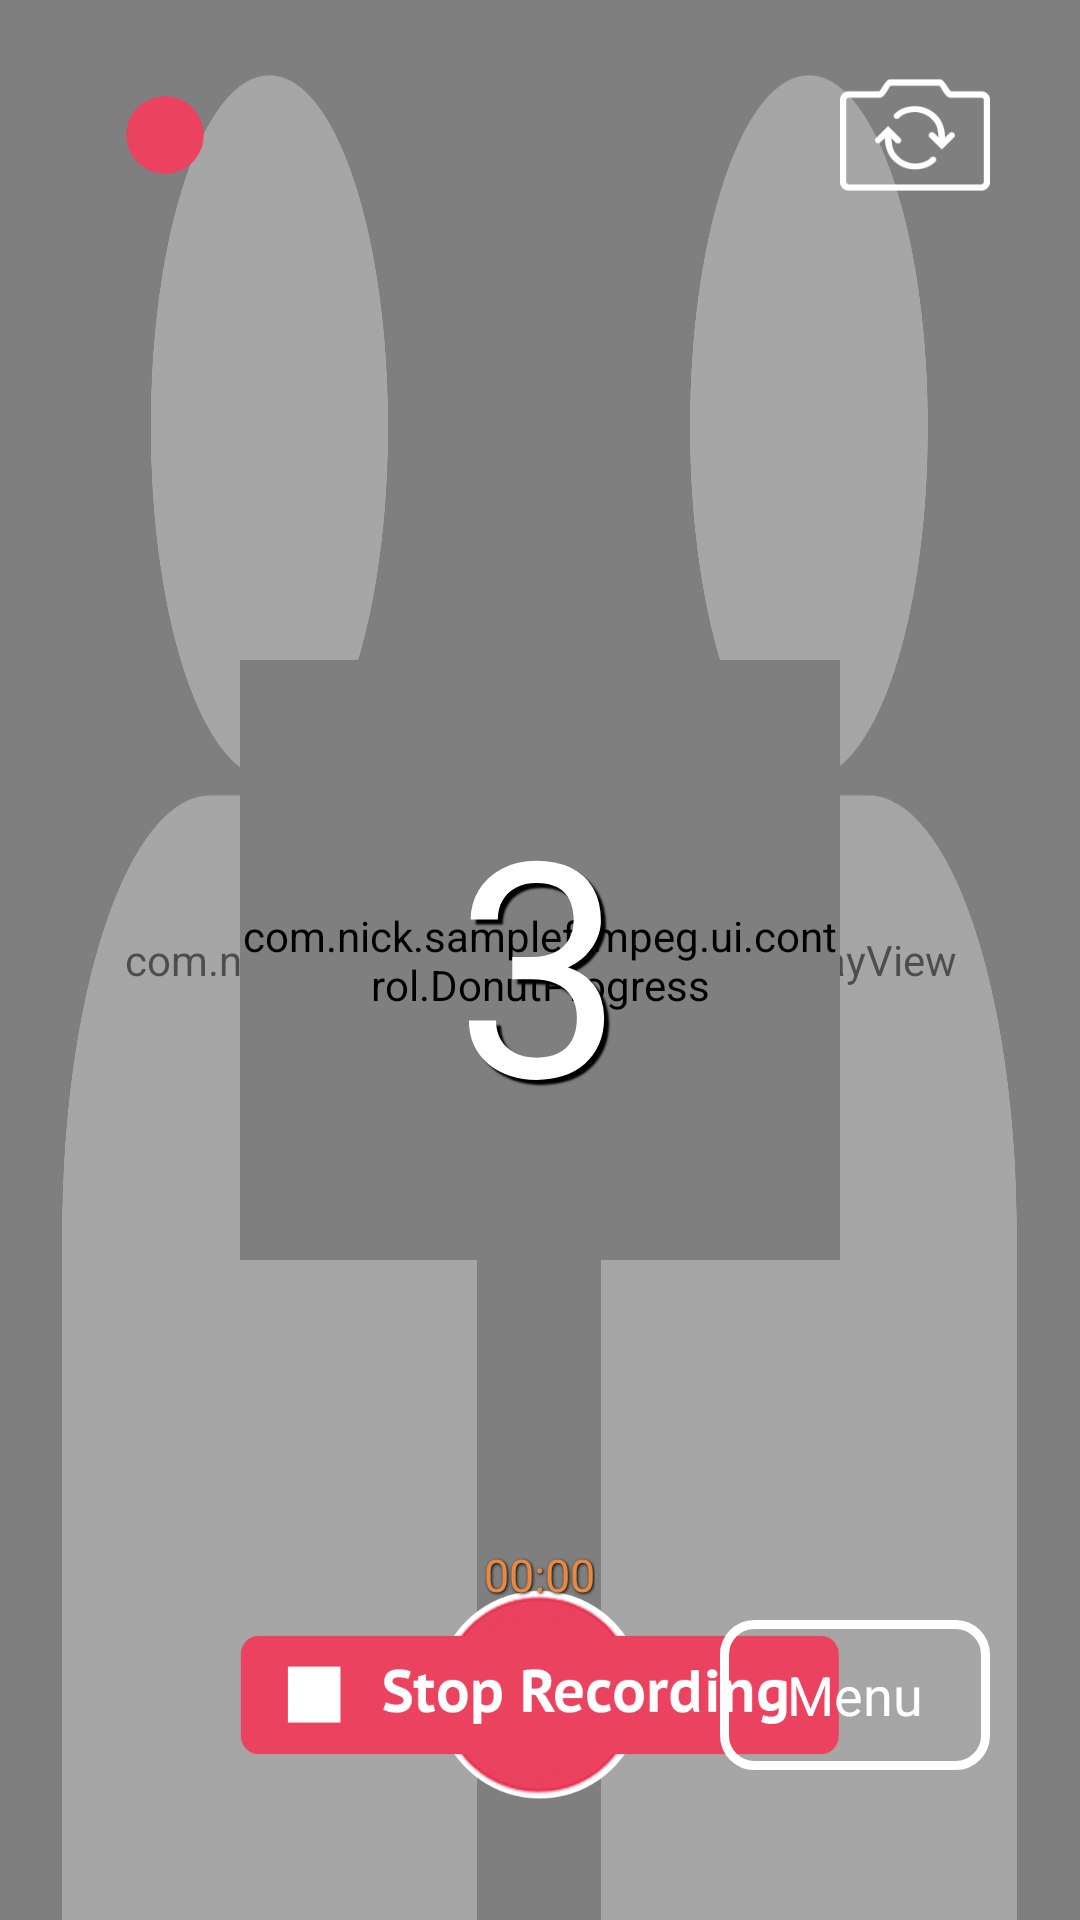

Named icons in this screenshot (1080 x 1920) and their centers, point (x, y):
status recording: point (168, 138)
switch camera: point (915, 144)
